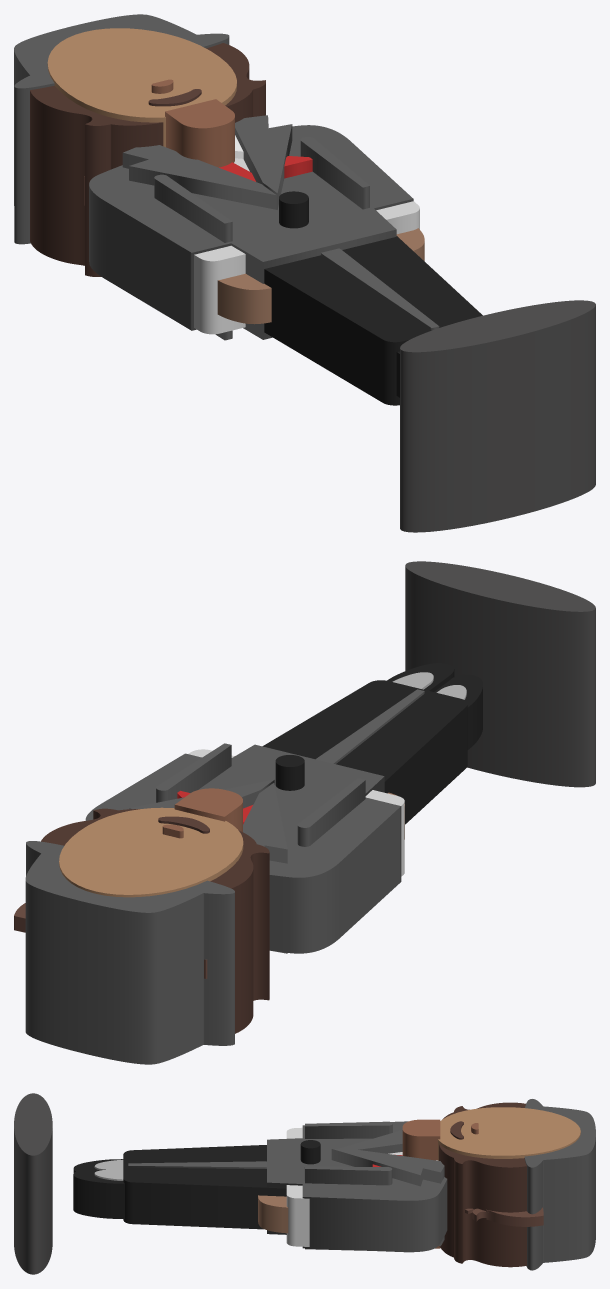
Rendered from emoji_u1f574_1f3fd.glb.
3 renders of one model, top to bottom at view 1: azimuth 30°, elevation 25°; view 2: azimuth 150°, elevation 25°; view 3: azimuth 270°, elevation 25°, orthographic. The views are drawn at different scales.
Visible parts, largest first — view 1: emoji_u1f574_1f3fd; view 2: emoji_u1f574_1f3fd; view 3: emoji_u1f574_1f3fd.
Part boxes in pixels (box(x1,y1,x2,y2)): emoji_u1f574_1f3fd: box(14, 14, 595, 532); emoji_u1f574_1f3fd: box(14, 561, 595, 1064); emoji_u1f574_1f3fd: box(14, 1093, 595, 1274).
Size of the model in its own units: 0.0106 by 0.0074 by 0.0328.
